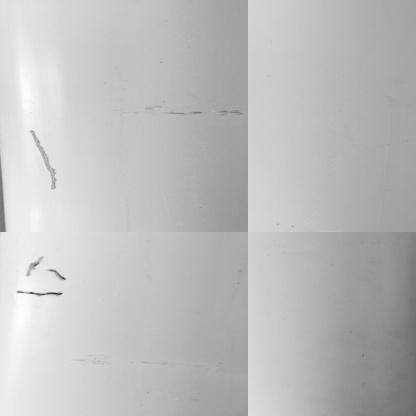fengxi: (31, 128, 67, 193), (18, 284, 65, 297), (22, 255, 43, 277), (52, 265, 67, 283)
